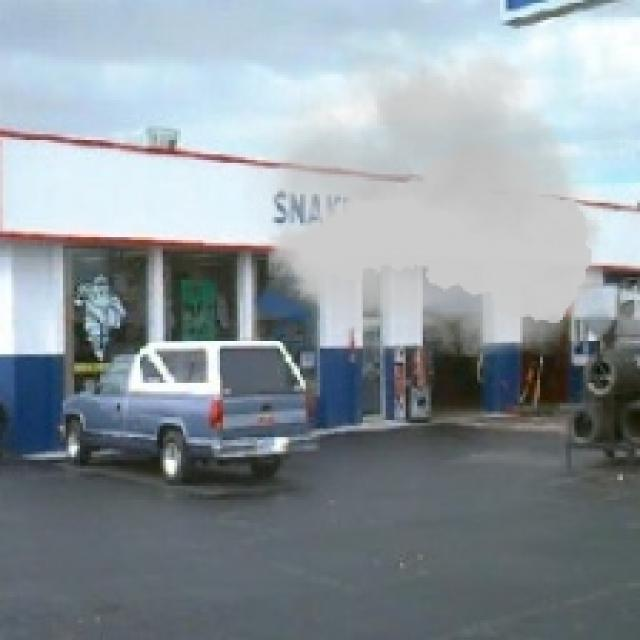Smoke: (242, 8, 618, 386)
